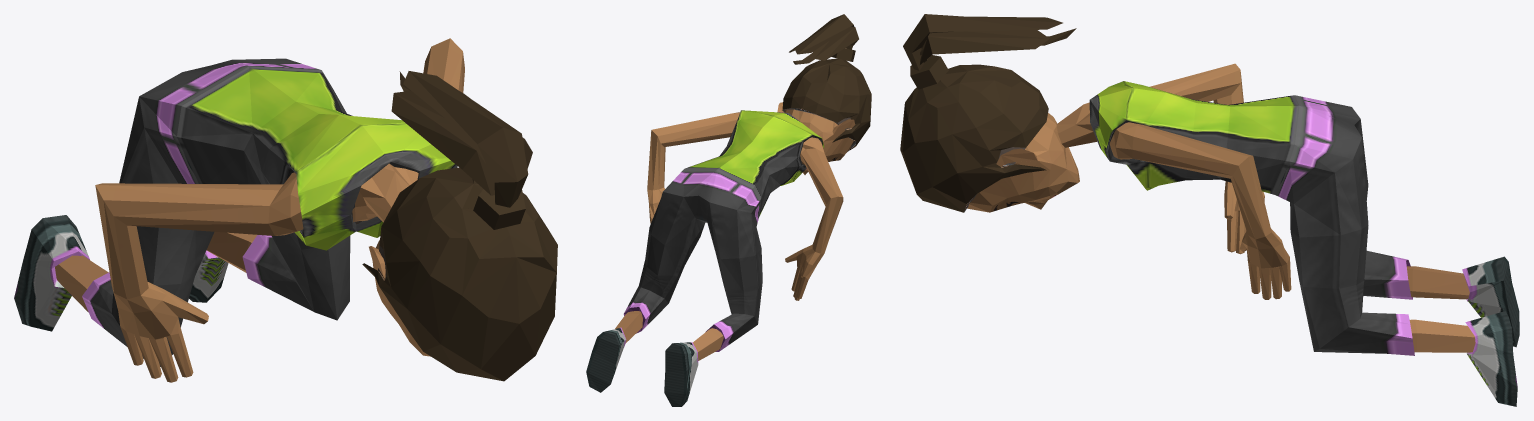
File: Sitting Female 2.obj
3 views of the same model, side by side, from view 1: azimuth 30°, elevation 25°; view 2: azimuth 150°, elevation 25°; view 3: azimuth 270°, elevation 25° (orthographic). The views are drawn at different scales.
Parts seen in each view (by area): view 1: Object.1; view 2: Object.1; view 3: Object.1.
Part boxes in pixels (<box>): Object.1: <box>14,38,557,382</box>; Object.1: <box>586,14,871,406</box>; Object.1: <box>900,14,1519,406</box>.
Bounding box in the file's own units: 556 × 698 × 1089.
Materials: 1 (1 with a texture image).
